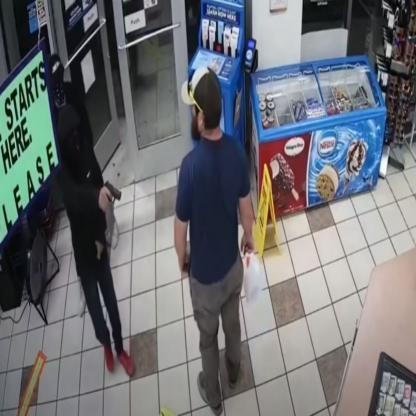pistols: (98, 179, 124, 214)
